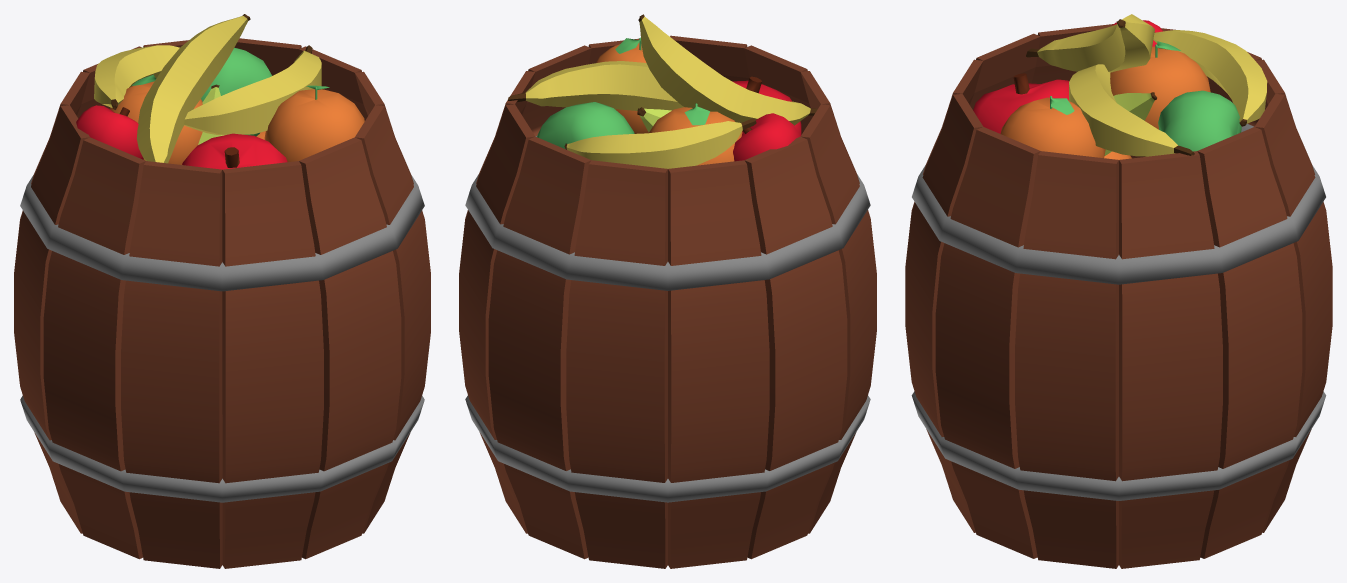
Rendered from BarrelWithFruitsV1.fbx.
3 views of the same model, side by side, from view 1: azimuth 30°, elevation 25°; view 2: azimuth 150°, elevation 25°; view 3: azimuth 270°, elevation 25° (orthographic). The views are drawn at different scales.
Visible parts, largest first — view 1: Circle, Circle.002, Circle.001, Cube.002, Circle.003, Cube.003, Cube.012, Cube, Cube.001; view 2: Circle, Circle.002, Circle.001, Circle.003, Cube, Cube.012, Cube.001, Cube.002, Cube.003; view 3: Circle, Circle.001, Circle.003, Circle.002, Cube.002, Cube.001, Cube, Cube.003, Circle.005.
Part boxes in pixels (x1=…): Circle: x1=14, y1=38, x2=430, y2=568; Circle.002: x1=136, y1=14, x2=250, y2=163; Circle.001: x1=184, y1=45, x2=321, y2=134; Cube.002: x1=264, y1=85, x2=364, y2=161; Circle.003: x1=94, y1=45, x2=179, y2=109; Cube.003: x1=182, y1=133, x2=287, y2=169; Cube.012: x1=76, y1=105, x2=143, y2=159; Cube: x1=201, y1=47, x2=271, y2=136; Cube.001: x1=109, y1=74, x2=202, y2=164; Circle: x1=459, y1=35, x2=876, y2=568; Circle.002: x1=638, y1=14, x2=817, y2=125; Circle.001: x1=508, y1=61, x2=683, y2=110; Circle.003: x1=564, y1=118, x2=756, y2=168; Cube: x1=537, y1=102, x2=634, y2=148; Cube.012: x1=733, y1=113, x2=799, y2=161; Cube.001: x1=648, y1=103, x2=742, y2=165; Cube.002: x1=596, y1=37, x2=648, y2=133; Cube.003: x1=732, y1=76, x2=801, y2=136; Circle: x1=905, y1=24, x2=1332, y2=568; Circle.001: x1=1069, y1=64, x2=1194, y2=156; Circle.003: x1=1153, y1=30, x2=1267, y2=126; Circle.002: x1=1026, y1=14, x2=1154, y2=72; Cube.002: x1=1000, y1=96, x2=1105, y2=157; Cube.001: x1=1110, y1=41, x2=1210, y2=129; Cube: x1=1158, y1=90, x2=1241, y2=151; Cube.003: x1=973, y1=73, x2=1068, y2=133; Circle.005: x1=1104, y1=92, x2=1156, y2=155.
Bounding box in the file's own units: 193 × 245 × 193.
